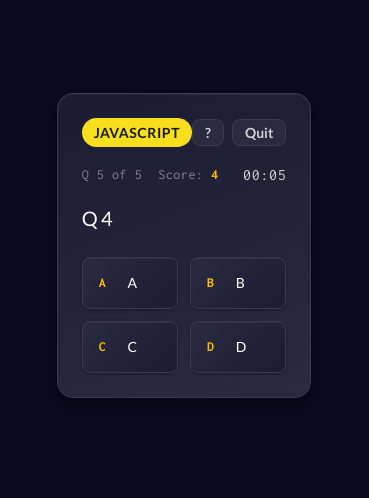
Scenario: App component › after all level questions, LevelResult screen shown with correct score
# Answer last question correctly
Click the button named "option A: A". click: [130, 282]
box: x1=82 y1=256 x2=178 y2=308
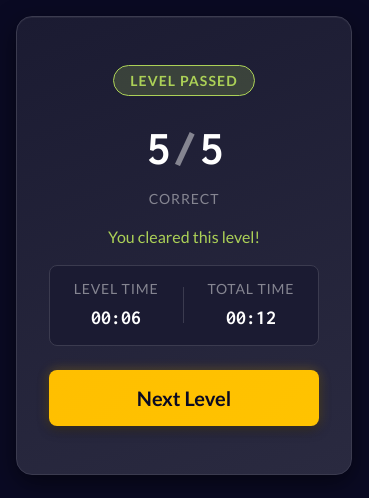
Check: the text "Level Passed" is shown, box x1=113 y1=64 x2=255 y2=96
